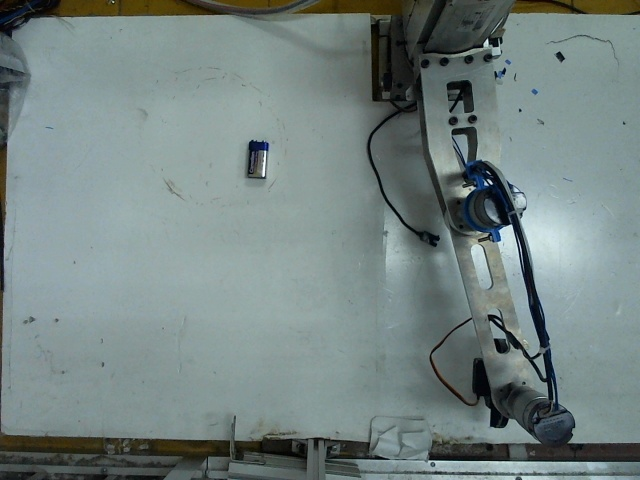battery: (242, 135, 271, 180)
